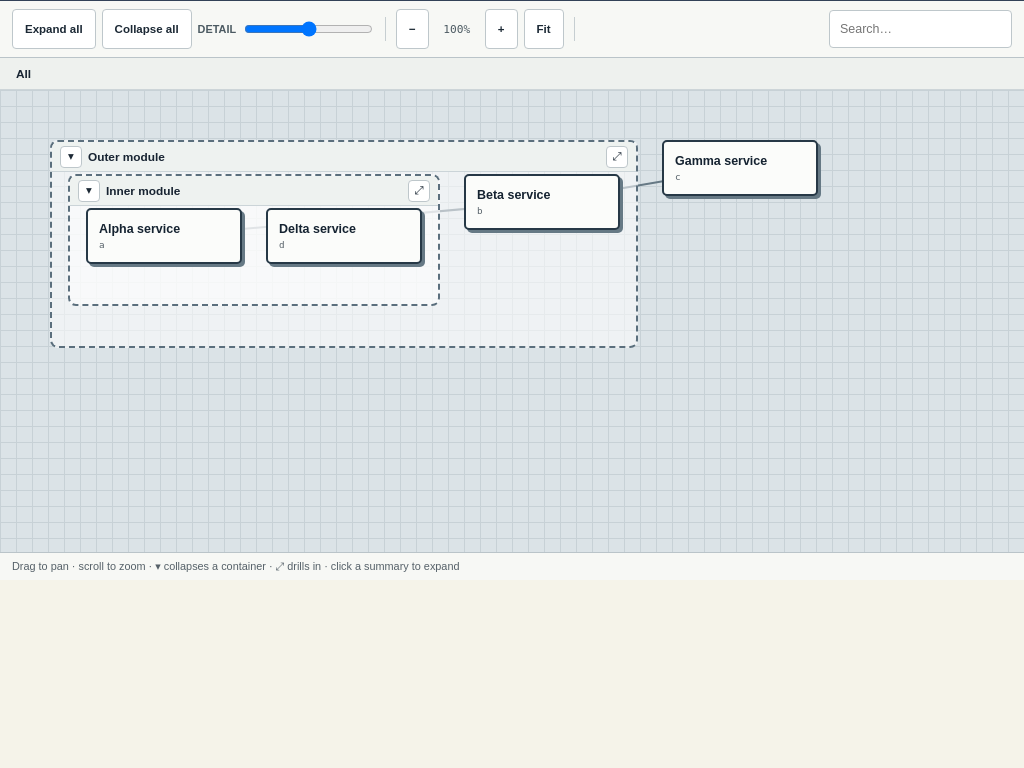
Scenario: ExplorerSurface › renders leaves and container frames, and collapse-all folds them into summaries
This screenshot has width=1024, height=768.
Expected: the text "Alpha service" is shown, [99,222,180,236]
Expected: the text "Outer module" is shown, [88,150,165,164]
Click the button "Collapse all" at (147, 29), box [102,9,192,49]
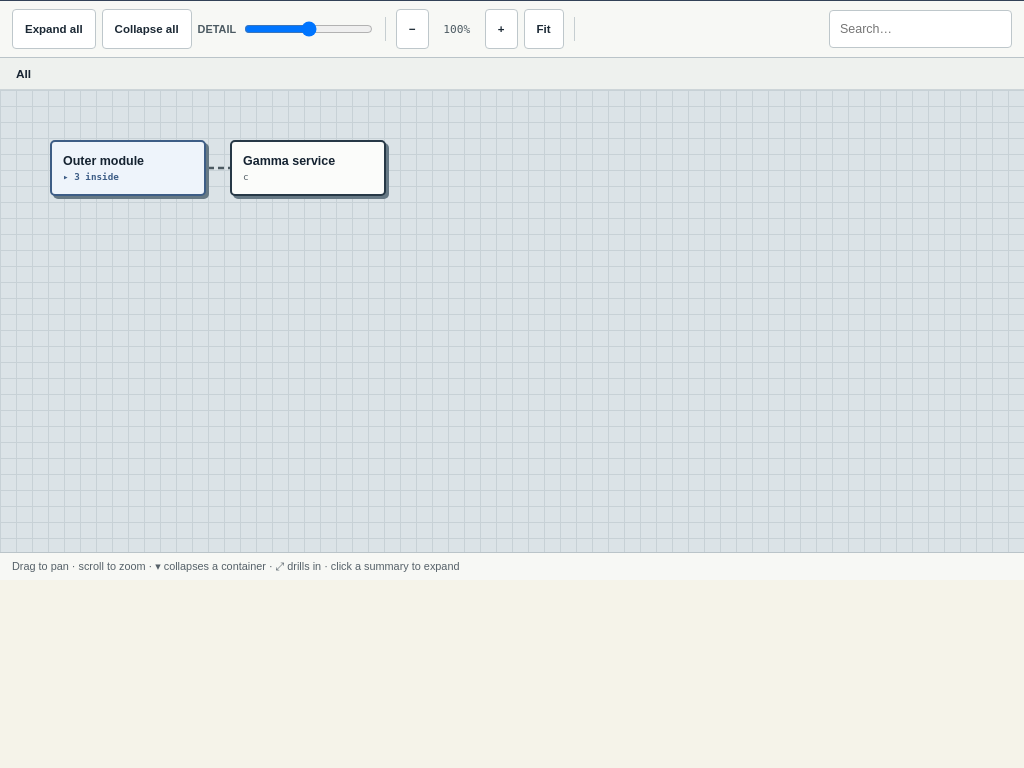
Now the button "Alpha service" is gone
Now the text "▸ 3 inside" is shown, box [63,171,119,182]
